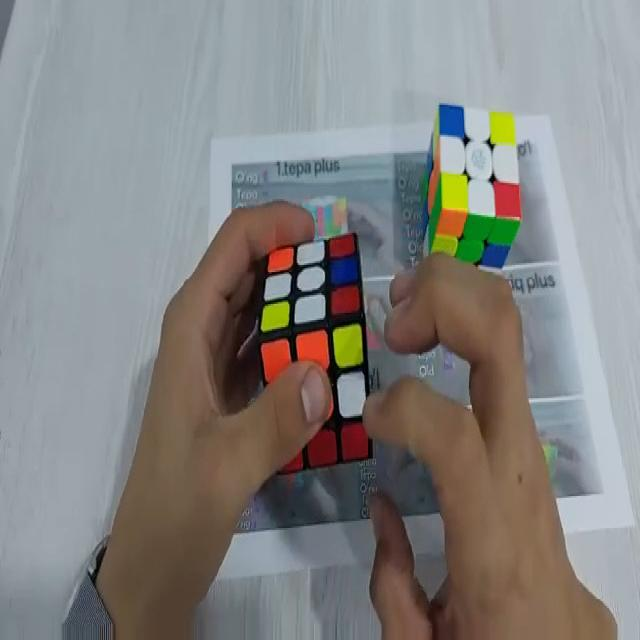Rub: (260, 231, 372, 475), (423, 98, 522, 280)
